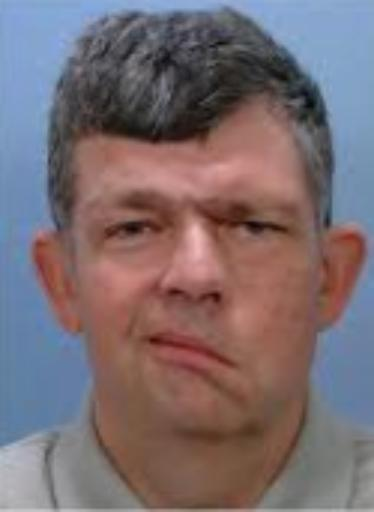left_eye: (223, 217, 291, 243)
left_lip_corner: (215, 346, 245, 380)
right_eye: (104, 217, 165, 245)
right_lip_corner: (136, 332, 161, 354)
